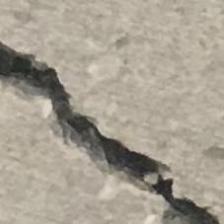Crack: (0, 36, 224, 215)
